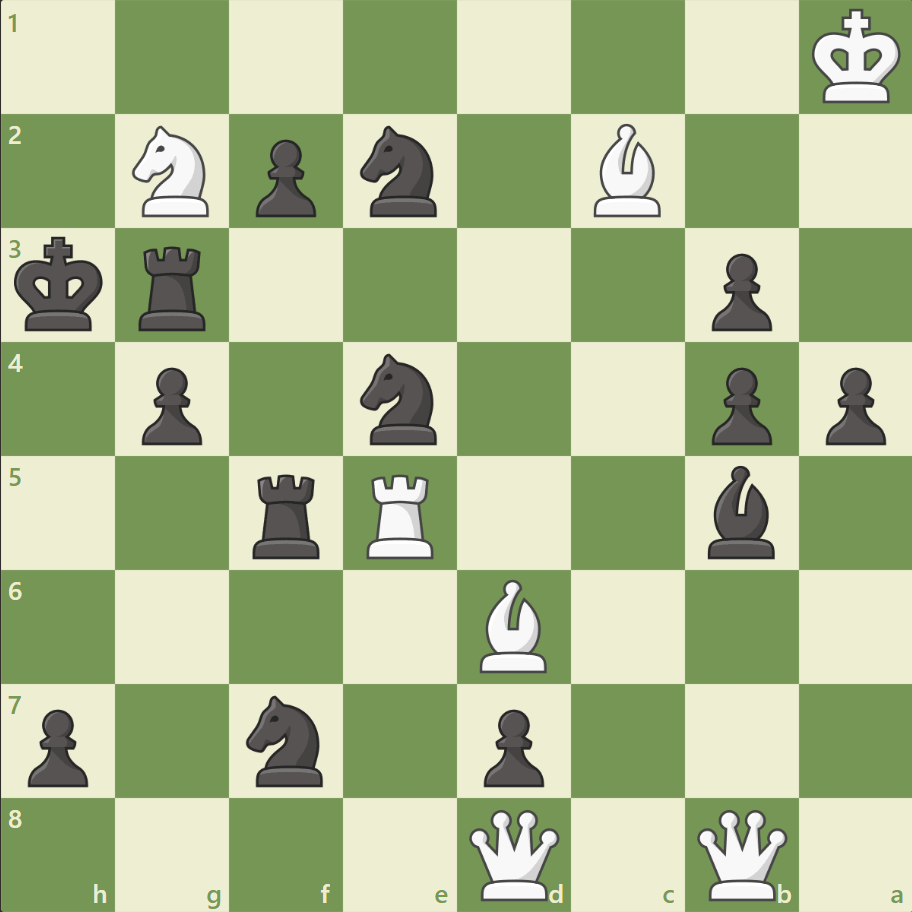B: (471, 574, 555, 676), (585, 120, 669, 222)
K: (806, 4, 906, 112)
N: (124, 121, 222, 223)
Q: (691, 804, 790, 903), (464, 804, 563, 903)
R: (360, 466, 442, 563)
b: (698, 460, 782, 563)
k: (11, 231, 111, 339)
n: (351, 348, 449, 450), (351, 121, 449, 223), (238, 688, 335, 791)
p: (474, 700, 549, 791), (20, 700, 95, 791), (701, 359, 776, 450), (133, 359, 208, 450), (701, 246, 776, 337), (247, 132, 322, 223), (815, 359, 889, 450)
r: (246, 466, 329, 563), (133, 239, 215, 336)
